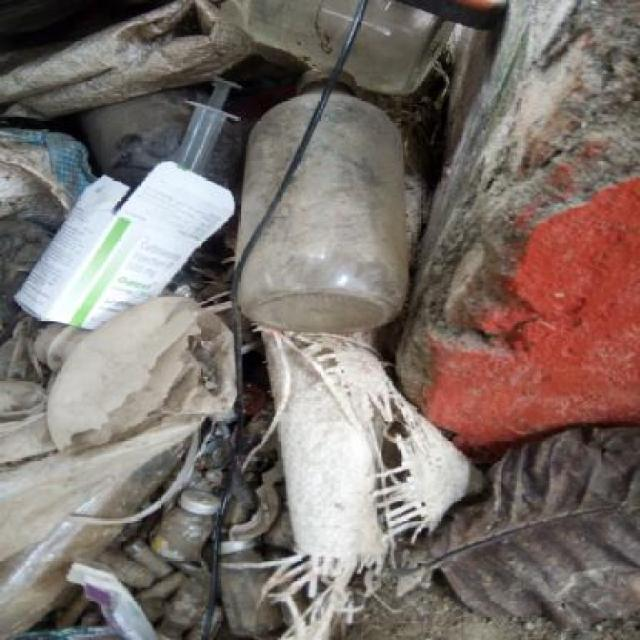garbage: (240, 62, 498, 350), (6, 443, 307, 639), (265, 343, 528, 566), (48, 110, 231, 336), (5, 3, 279, 89)
